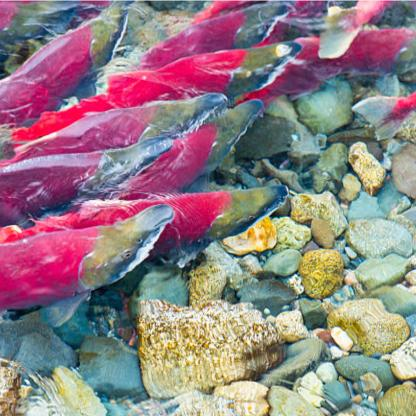sockeye-group: (2, 0, 288, 295)
